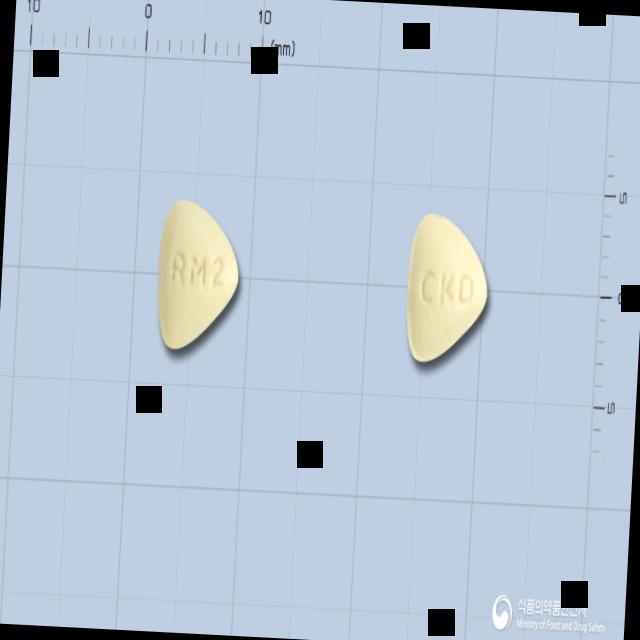Ciroctan - 500mg: (154, 196, 244, 355), (404, 209, 494, 368)
